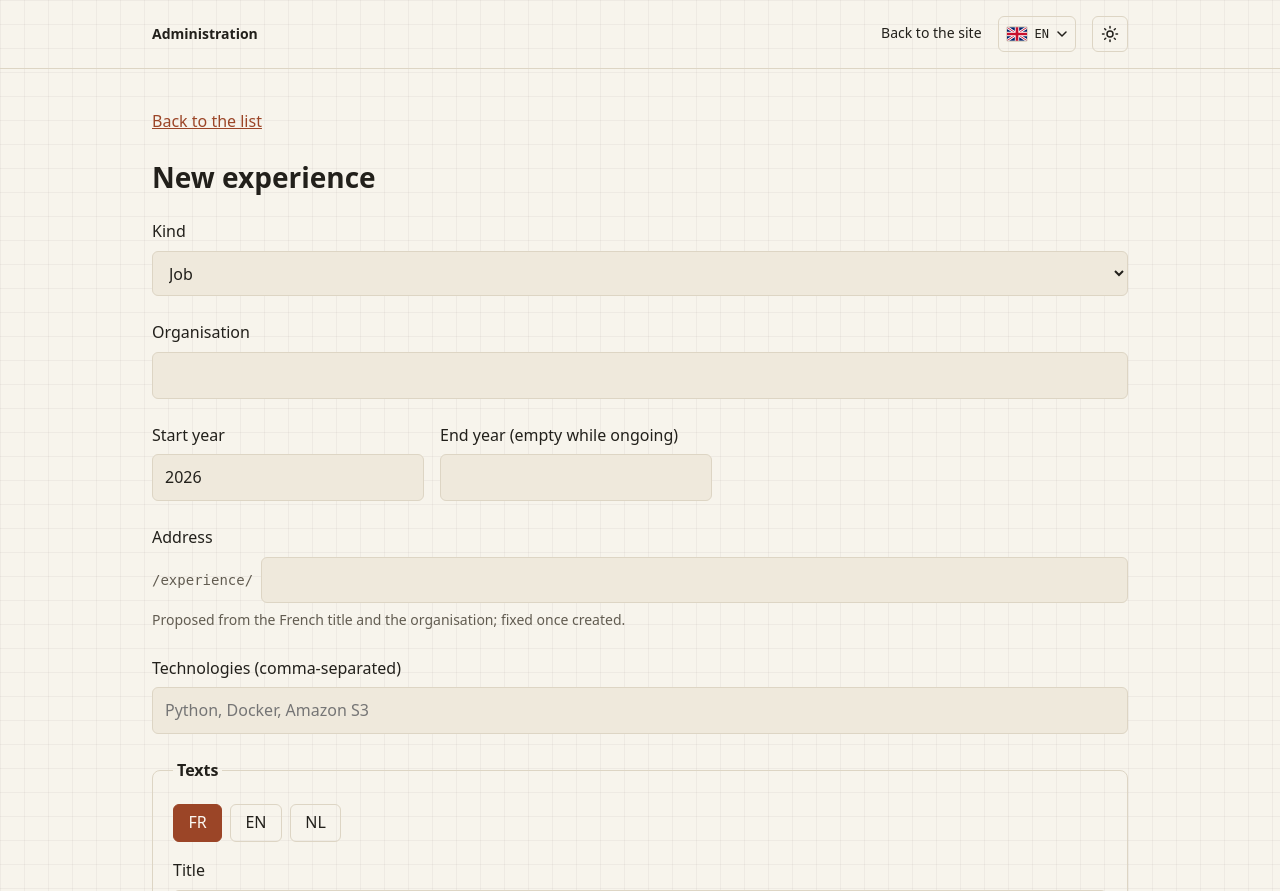
it: creating an experience › shows the server validation errors on their fields
Type "soon" into the field labelled "End year (empty while ongoing)".
click(576, 478); type("soon")  # box [440, 454, 712, 501]
(page scrolled)
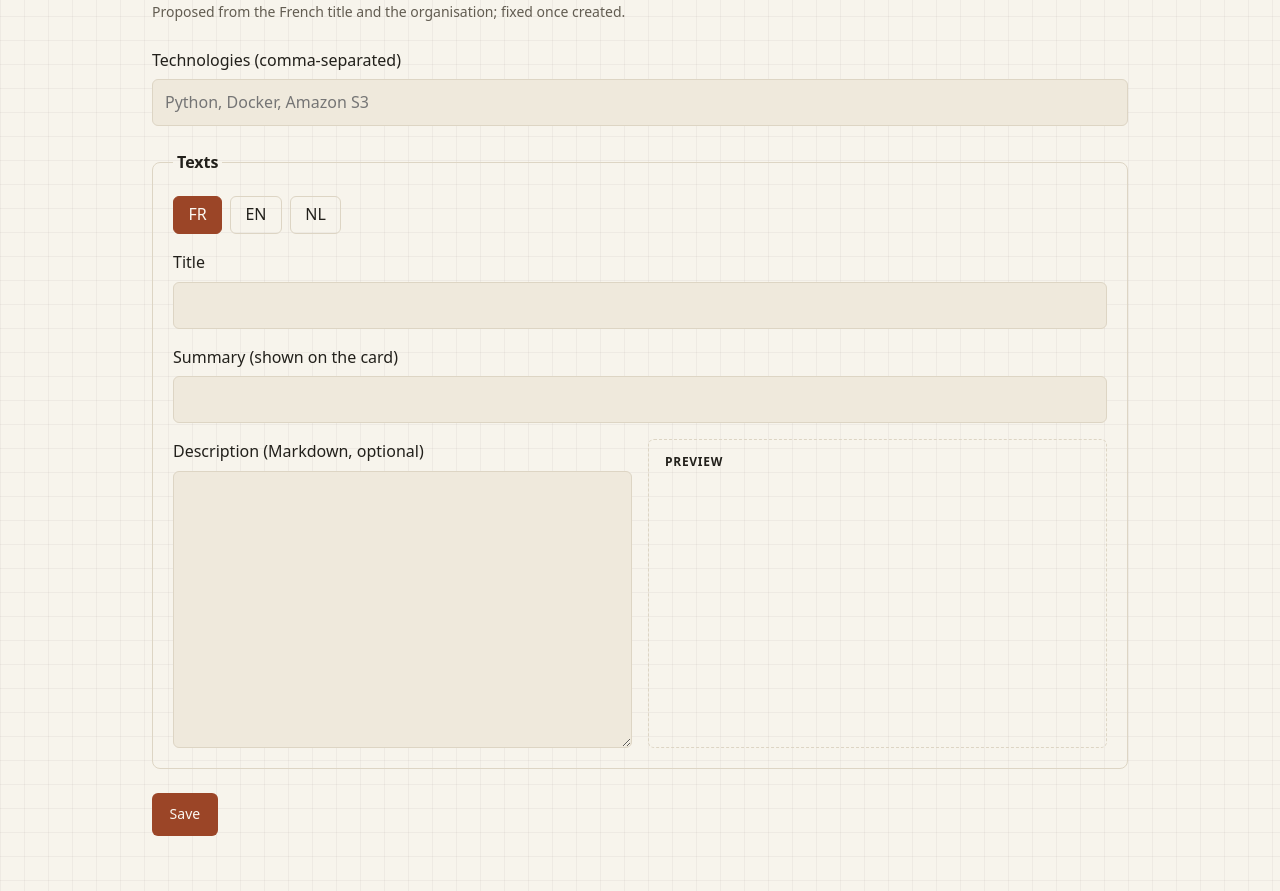
Click the button "Save".
click(185, 814)  # box [152, 793, 218, 836]
(page scrolled)
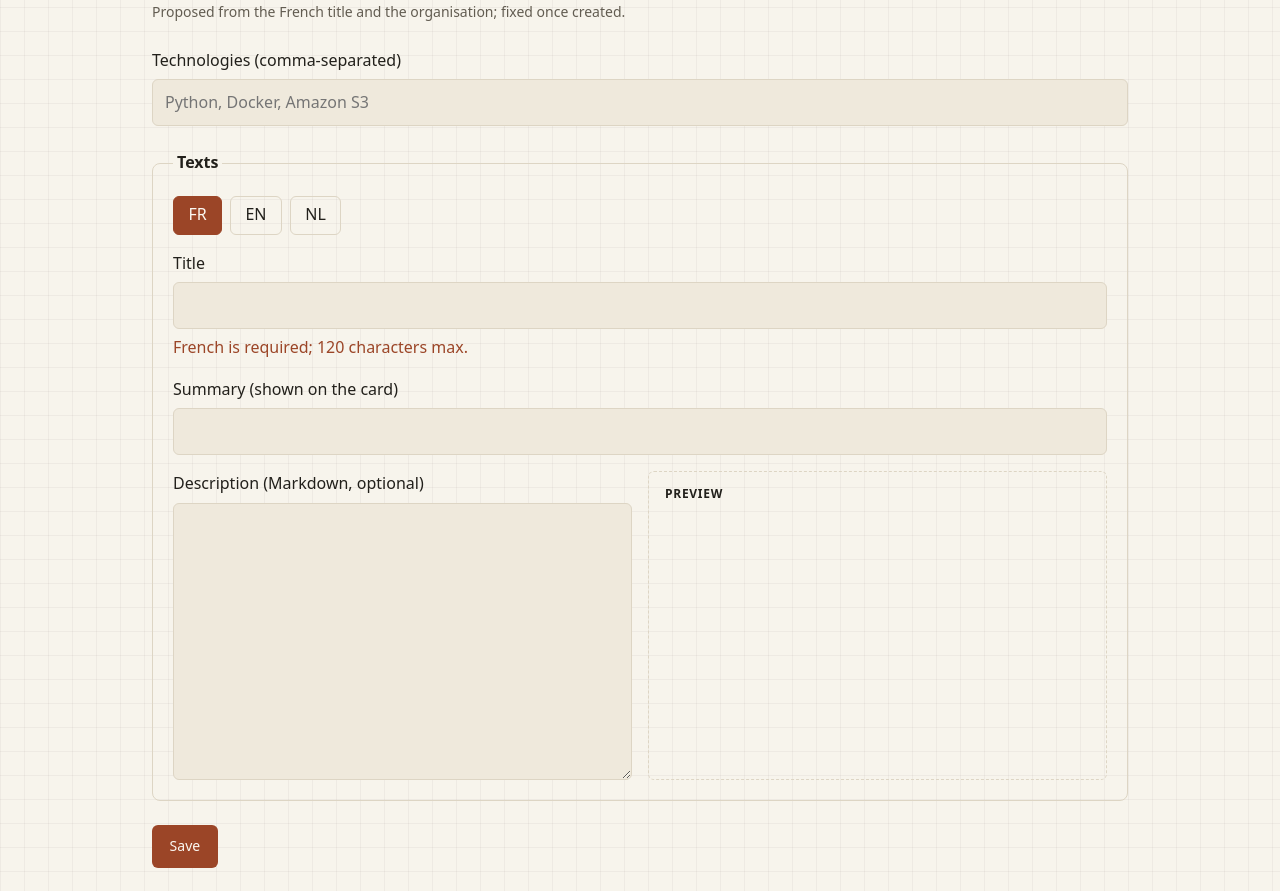
Check: the text "French is required; 120 characters max." is shown, box [173, 336, 468, 358]
